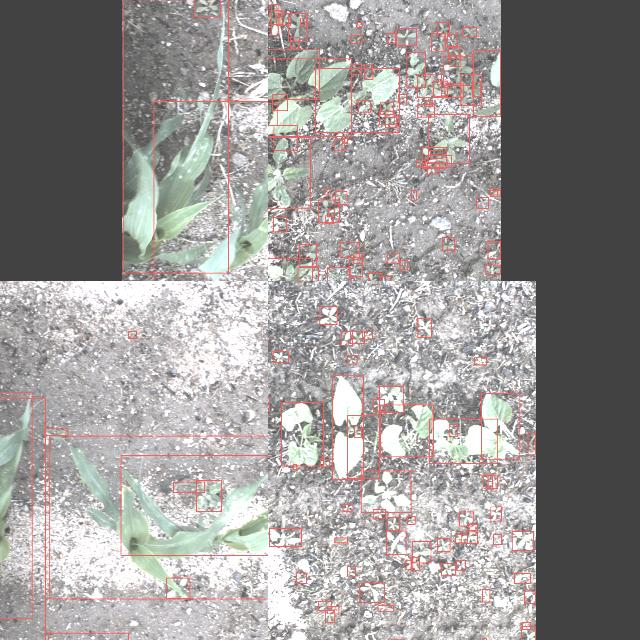crop: (49, 435, 268, 598), (122, 0, 228, 273), (153, 101, 268, 281), (121, 455, 268, 555), (0, 397, 45, 640), (0, 393, 32, 619), (268, 59, 351, 137), (315, 69, 399, 133), (332, 376, 363, 480), (429, 418, 497, 464), (381, 405, 434, 457), (281, 402, 323, 466), (268, 50, 319, 100), (482, 393, 520, 459), (474, 50, 501, 116)
weed: (268, 137, 310, 208), (428, 114, 469, 164), (361, 471, 411, 512), (347, 416, 379, 478), (268, 257, 312, 281), (443, 56, 473, 86), (196, 481, 222, 512), (406, 52, 426, 88), (378, 386, 404, 412), (461, 74, 482, 106), (417, 74, 441, 98), (273, 126, 297, 150), (269, 528, 301, 546), (288, 13, 308, 41), (422, 148, 446, 168), (166, 578, 190, 598), (360, 583, 384, 603), (386, 531, 406, 555), (318, 200, 339, 222), (412, 541, 432, 563), (512, 531, 534, 551), (194, 0, 220, 16), (299, 244, 317, 266), (396, 28, 416, 46), (327, 267, 350, 281), (340, 242, 360, 258), (426, 155, 452, 167), (173, 482, 204, 492), (319, 307, 336, 325), (297, 267, 318, 281), (444, 84, 464, 98), (417, 318, 431, 338), (271, 4, 279, 36), (272, 94, 288, 110), (431, 33, 445, 51), (349, 259, 363, 277), (434, 81, 448, 97), (418, 104, 434, 118), (488, 241, 500, 259), (268, 10, 282, 24), (459, 512, 473, 526), (522, 626, 536, 640), (380, 112, 394, 125), (268, 103, 276, 125), (45, 428, 67, 436), (528, 432, 536, 454), (437, 22, 449, 36), (276, 14, 290, 26), (335, 191, 347, 205), (274, 218, 286, 232), (438, 538, 450, 552), (350, 332, 364, 344), (441, 563, 455, 575), (524, 590, 536, 604), (364, 64, 374, 80), (272, 352, 288, 362), (462, 532, 478, 542), (515, 573, 531, 583), (381, 102, 394, 114), (341, 331, 352, 345), (448, 46, 460, 58), (358, 100, 370, 112), (427, 162, 439, 174), (443, 238, 455, 250), (388, 518, 400, 530), (373, 399, 385, 411), (463, 27, 477, 37), (447, 34, 457, 48), (486, 265, 500, 275), (491, 507, 501, 521), (388, 253, 400, 263), (477, 198, 489, 208), (296, 572, 306, 584), (448, 424, 458, 436), (410, 558, 420, 570), (455, 534, 467, 544), (488, 476, 498, 488), (483, 475, 493, 487), (473, 82, 481, 96), (368, 273, 382, 281), (482, 588, 490, 602), (318, 602, 332, 610), (373, 509, 385, 518), (351, 64, 361, 74), (290, 38, 300, 48), (450, 56, 460, 66), (386, 117, 396, 127), (334, 140, 344, 150), (347, 354, 357, 364), (456, 560, 466, 570), (430, 150, 442, 158), (474, 357, 486, 365), (326, 610, 334, 622), (354, 426, 362, 438), (353, 253, 362, 263), (351, 35, 362, 43), (378, 605, 392, 611), (387, 33, 395, 43), (400, 260, 408, 270), (324, 216, 334, 224), (347, 566, 355, 576), (342, 504, 352, 512), (328, 606, 338, 614), (362, 332, 372, 340), (320, 459, 330, 467), (494, 534, 502, 544), (491, 190, 501, 197), (399, 94, 407, 102), (417, 160, 425, 168), (407, 516, 415, 524), (523, 622, 531, 630), (406, 560, 412, 570), (468, 524, 478, 530), (334, 538, 348, 542), (380, 276, 390, 281), (300, 18, 306, 26), (490, 189, 498, 195), (129, 332, 137, 338), (328, 210, 334, 217), (412, 190, 416, 200), (356, 22, 362, 28), (426, 100, 432, 106), (342, 138, 348, 144), (324, 189, 330, 195), (293, 464, 297, 470), (483, 638, 487, 640)
